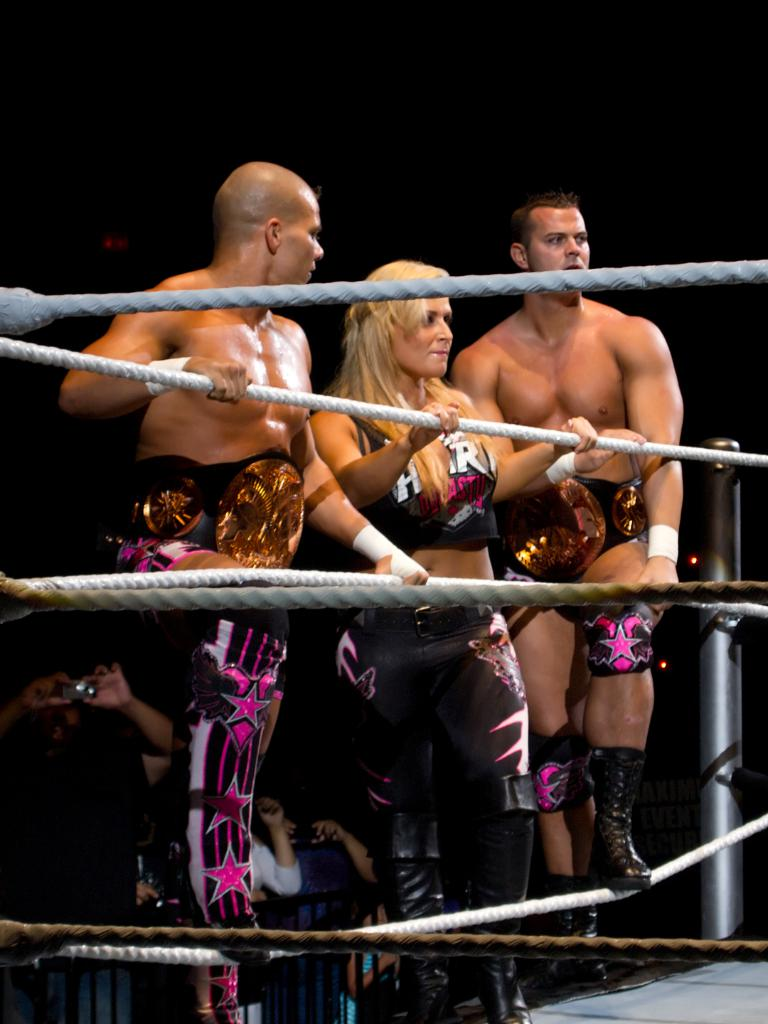Person: (47, 130, 434, 1024), (303, 248, 598, 1024), (449, 190, 687, 987), (0, 659, 187, 1024), (253, 795, 303, 903)
